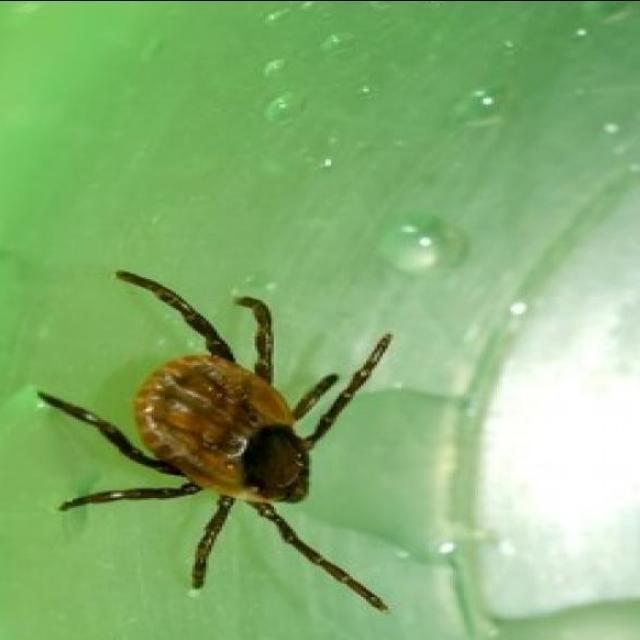Rhipicephalus Sanguineus-F: (40, 271, 393, 611)
